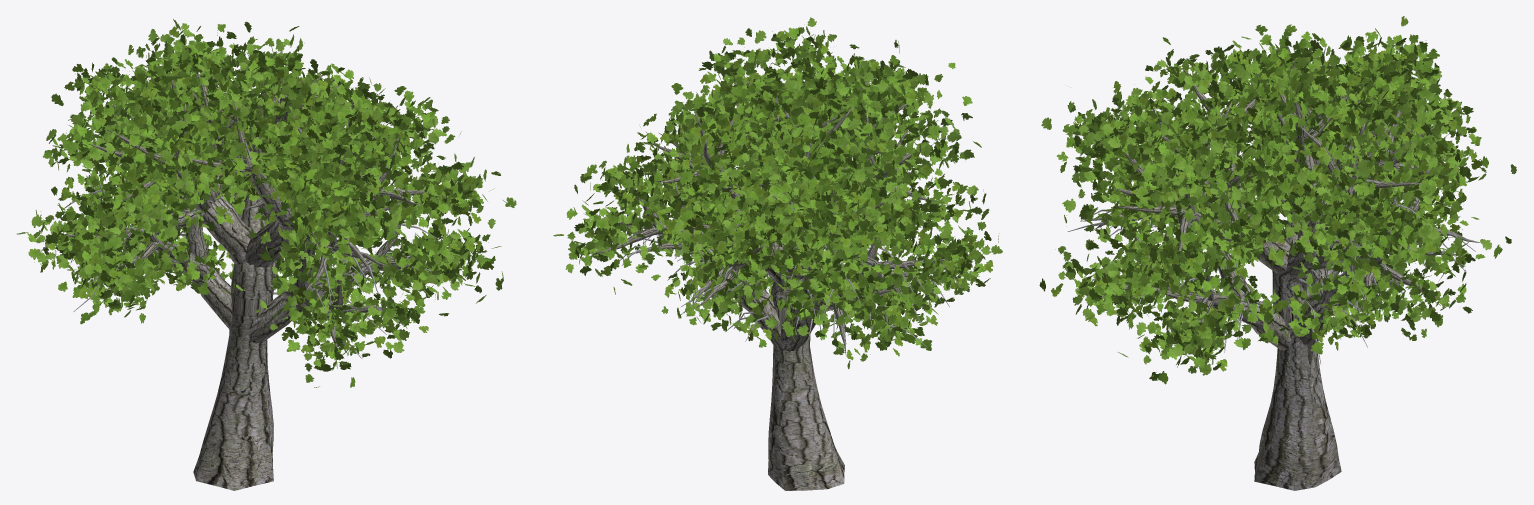
The picture shows the model from 3 angles, left to right: view 1: azimuth 30°, elevation 25°; view 2: azimuth 150°, elevation 25°; view 3: azimuth 270°, elevation 25°; orthographic projection. The views are drawn at different scales.
Visible parts, largest first — view 1: Tilo foliage cards, Tilo_EasyTree_V022_Proof, Tilo V022 delicate lower branches; view 2: Tilo foliage cards, Tilo_EasyTree_V022_Proof, Tilo V022 delicate lower branches; view 3: Tilo foliage cards, Tilo_EasyTree_V022_Proof, Tilo V022 delicate lower branches.
Boxes of the visible parts, bbox=[...] form: Tilo foliage cards: bbox=[17, 19, 516, 387]; Tilo_EasyTree_V022_Proof: bbox=[67, 51, 446, 490]; Tilo V022 delicate lower branches: bbox=[40, 175, 439, 358]; Tilo foliage cards: bbox=[553, 17, 1002, 369]; Tilo_EasyTree_V022_Proof: bbox=[591, 65, 947, 490]; Tilo V022 delicate lower branches: bbox=[620, 171, 960, 346]; Tilo foliage cards: bbox=[1039, 16, 1516, 384]; Tilo_EasyTree_V022_Proof: bbox=[1081, 44, 1481, 490]; Tilo V022 delicate lower branches: bbox=[1067, 203, 1475, 363].
Bounding box in the file's own units: 6.02 × 5.75 × 5.84.
Materials: 2 (2 with a texture image).
